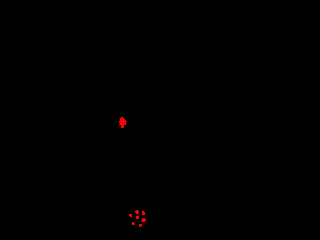Target: (119, 117, 127, 128), (141, 218, 146, 222), (135, 210, 139, 214), (142, 211, 145, 215), (129, 214, 132, 217), (136, 216, 139, 219), (132, 222, 135, 225), (139, 224, 142, 227)
